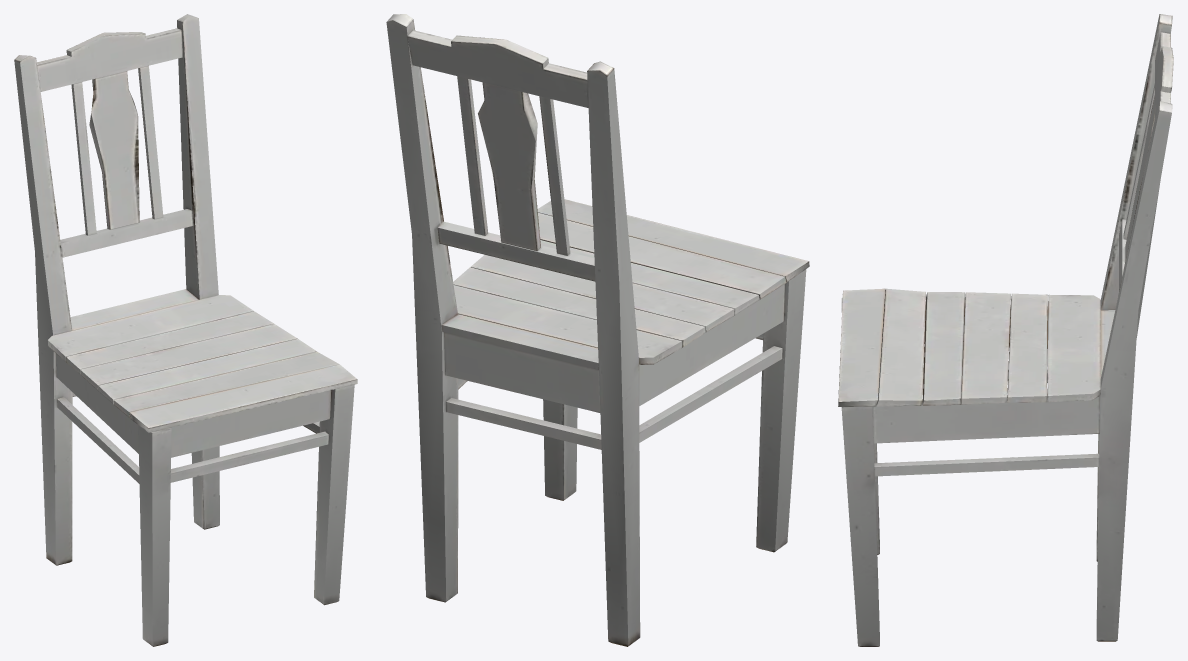
The model's file is painted_wooden_chair_01.glb.
The picture shows the model from 3 angles, left to right: view 1: azimuth 30°, elevation 25°; view 2: azimuth 150°, elevation 25°; view 3: azimuth 270°, elevation 25°; orthographic projection. The views are drawn at different scales.
Visible parts, largest first — view 1: painted_wooden_chair_01; view 2: painted_wooden_chair_01; view 3: painted_wooden_chair_01.
Boxes of the visible parts, x1=… form: painted_wooden_chair_01: x1=14, y1=14, x2=357, y2=646; painted_wooden_chair_01: x1=386, y1=14, x2=809, y2=646; painted_wooden_chair_01: x1=838, y1=14, x2=1173, y2=646.
Bounding box in the file's own units: 0.4238 × 0.9558 × 0.5386.
Materials: 1 (1 with a texture image).
